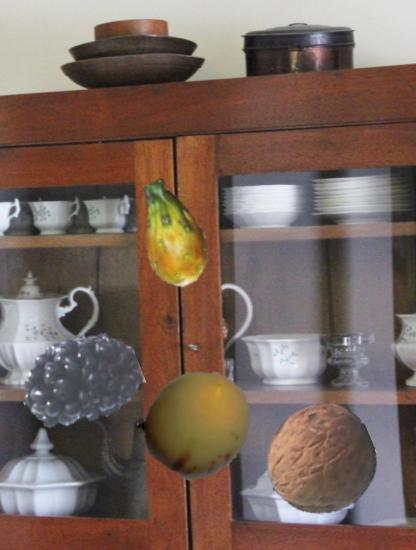Cactus: (115, 178, 227, 290)
Mulberry: (19, 319, 141, 441)
Pepino: (139, 368, 252, 481)
Walnut: (264, 404, 376, 516)
